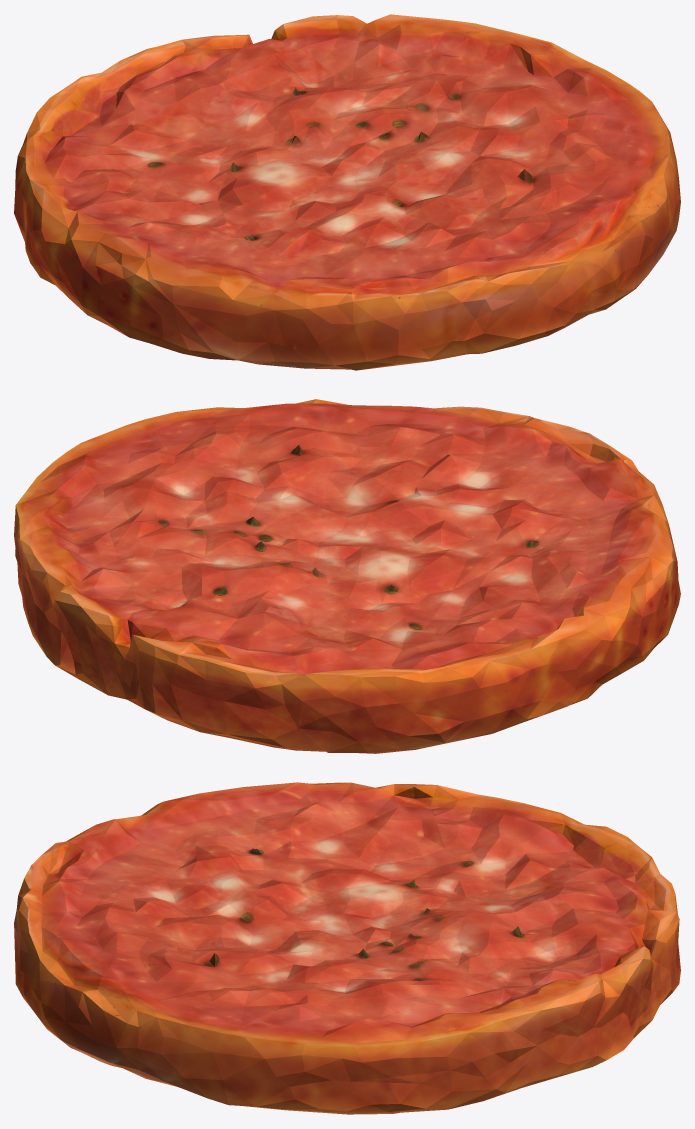
File: pepperoni_ingredient_0421210335_texture.fbx
3 renders of one model, top to bottom at view 1: azimuth 30°, elevation 25°; view 2: azimuth 150°, elevation 25°; view 3: azimuth 270°, elevation 25°, orthographic.
Visible parts, largest first — view 1: temp; view 2: temp; view 3: temp.
Boxes of the visible parts, left/top/right/bottom form: temp: left=14, top=14, right=680, bottom=370; temp: left=14, top=399, right=680, bottom=753; temp: left=14, top=782, right=680, bottom=1114.
Size of the model in its own units: 199 by 34.69 by 200.
Materials: 1 (1 with a texture image).
